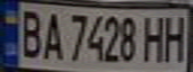2: (103, 11, 124, 63)
4: (84, 11, 106, 63)
7: (63, 10, 87, 62)
8: (118, 12, 142, 63)
A: (36, 8, 66, 61)
B: (15, 6, 45, 60)
H: (160, 11, 190, 62), (139, 12, 169, 62)
